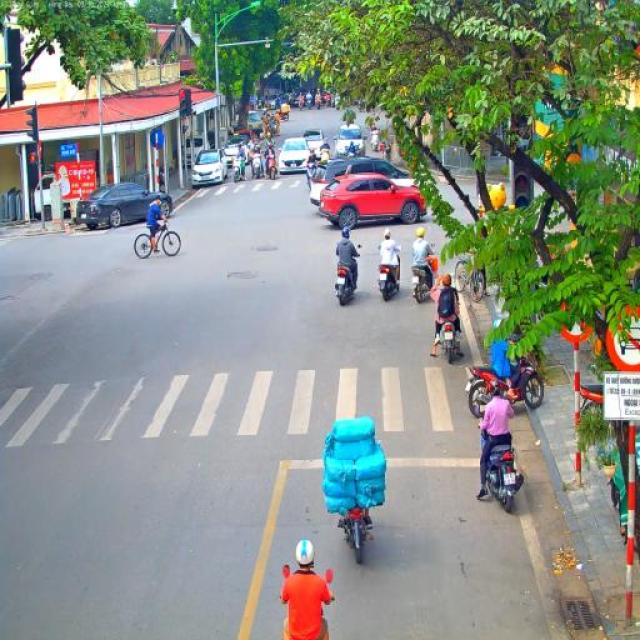car: (318, 173, 428, 231), (310, 154, 411, 206), (76, 181, 173, 230), (191, 150, 229, 186), (276, 137, 312, 174), (333, 122, 367, 159), (221, 142, 247, 176), (227, 131, 255, 158), (301, 129, 325, 159), (266, 93, 290, 107)
motorcycle: (464, 348, 546, 418), (278, 564, 334, 640), (478, 424, 524, 514), (577, 381, 640, 433), (336, 506, 374, 564), (333, 242, 362, 306), (410, 242, 440, 302), (436, 316, 465, 364), (378, 245, 402, 301), (306, 160, 319, 190), (233, 155, 246, 183), (251, 152, 263, 179), (266, 155, 278, 180), (370, 127, 380, 152), (380, 142, 392, 162), (319, 148, 331, 164), (346, 145, 358, 157), (273, 119, 281, 136), (356, 98, 365, 113), (279, 111, 290, 123), (264, 122, 271, 138), (266, 142, 276, 153), (297, 98, 305, 110), (335, 95, 341, 110), (314, 98, 321, 110), (306, 98, 312, 110)
truck: (32, 165, 78, 225), (234, 110, 264, 142), (258, 106, 273, 123)
